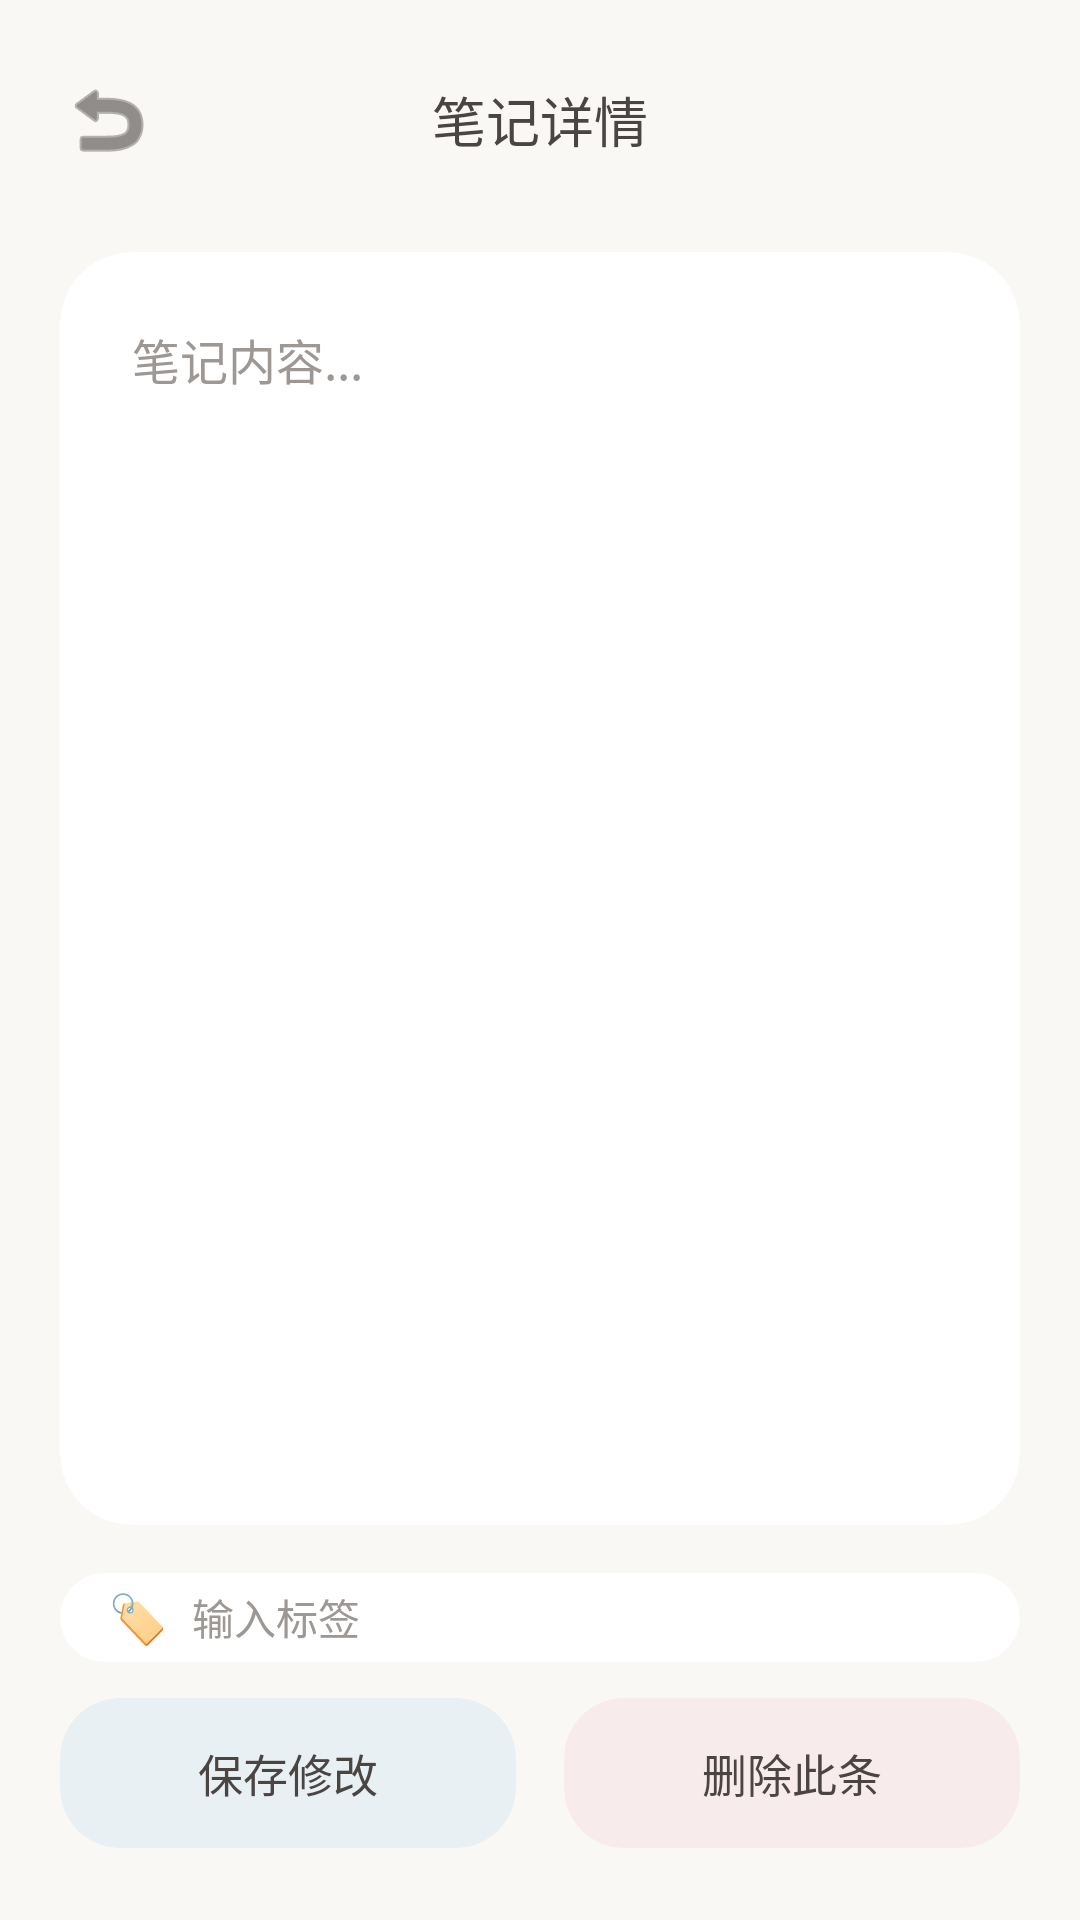

Screen size 1080×1920. Icon name, then its box in pixels as (x1, y1, x2, y2):
返回: (75, 89, 144, 152)
